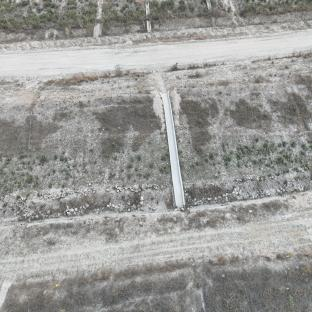rock_toe: (0, 183, 174, 221), (186, 164, 312, 204)
slope_drain: (159, 90, 185, 207)
toe_drain: (0, 187, 312, 227)
